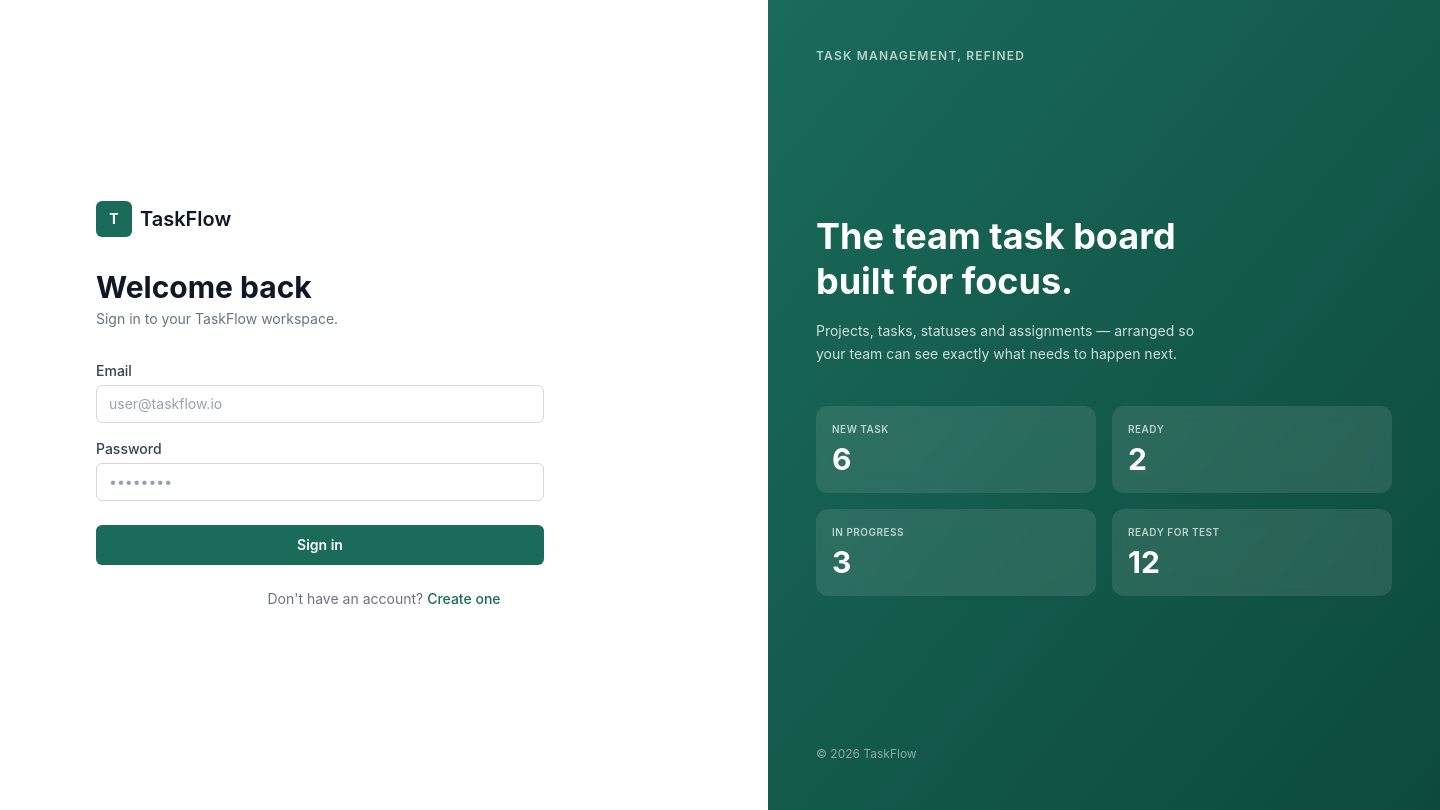
Test: LoginPage Integration Tests › shows validation errors for invalid input
The image size is (1440, 810).
# Find submit button and click it without filling the form
Click the button "Sign in". click: {"x": 320, "y": 545}
box: [96,525,544,565]
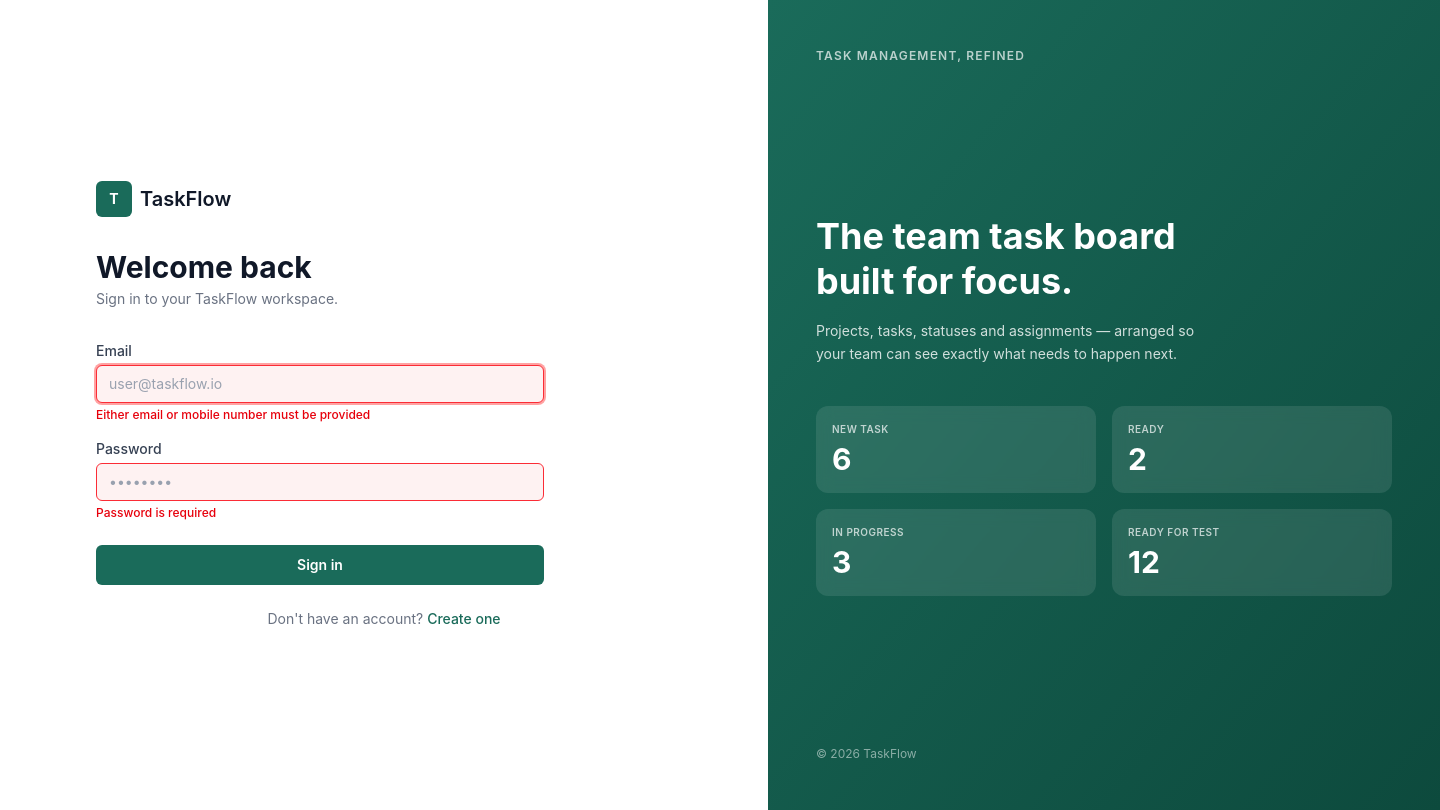
Now the text "Password is required" is shown, box [96,505,216,520]
Now the text "Either email or mobile number must be provided" is shown, box [96,407,370,422]
